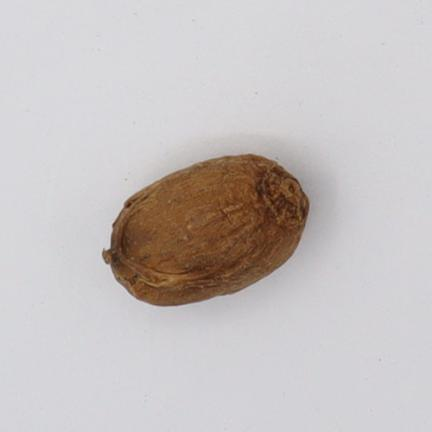full-black: (103, 155, 308, 305)
